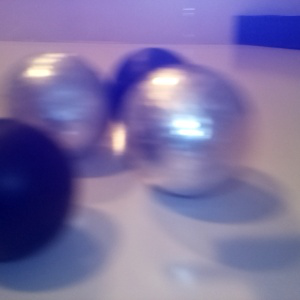alive_ball: (122, 64, 252, 197), (8, 52, 108, 158)
dead_ball: (1, 117, 78, 262), (110, 48, 186, 122)
